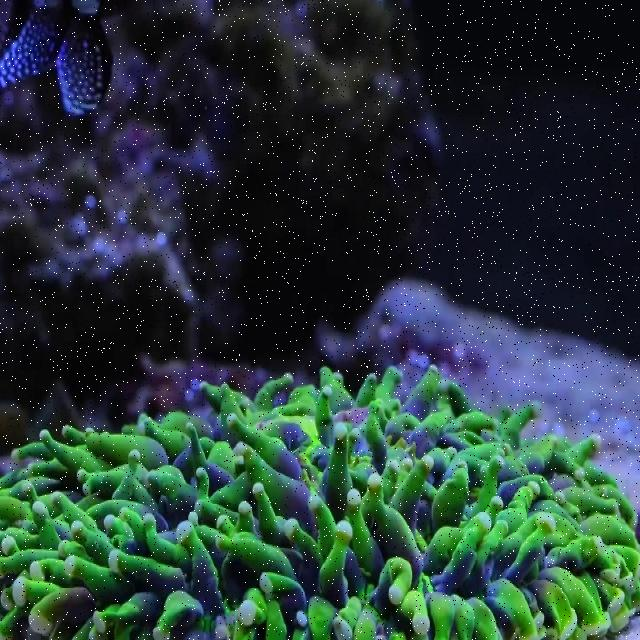reefs: (0, 366, 639, 638)
